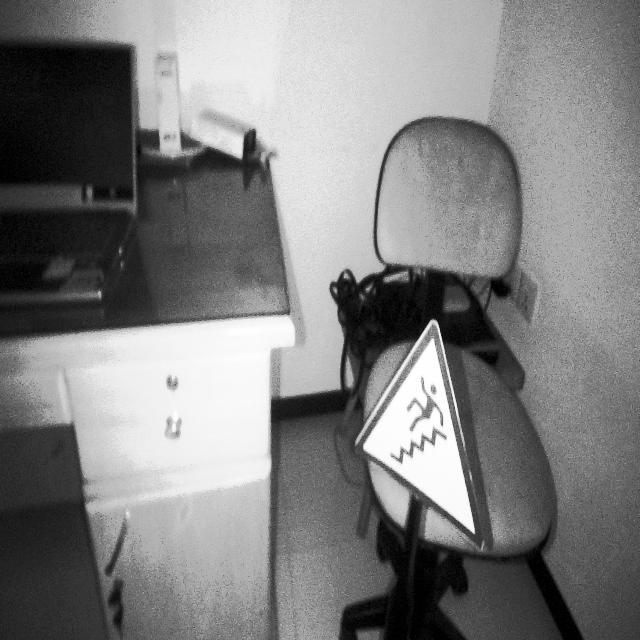Sign: (354, 318, 487, 554)
